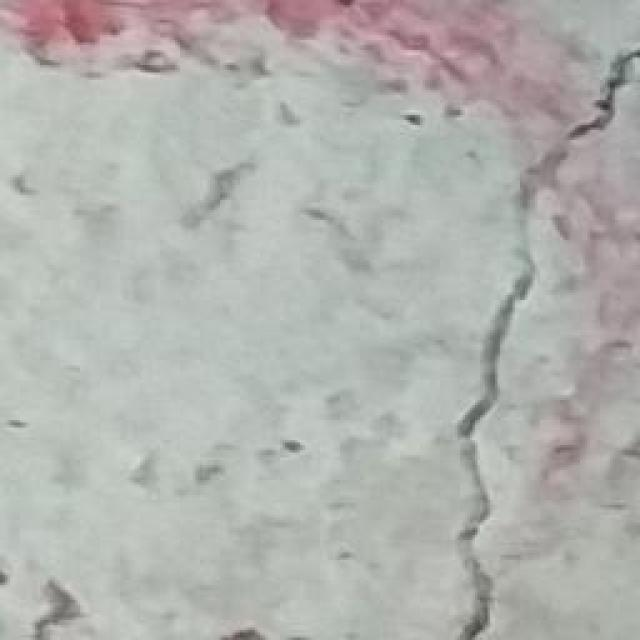Longitudinal: (425, 38, 640, 640)
